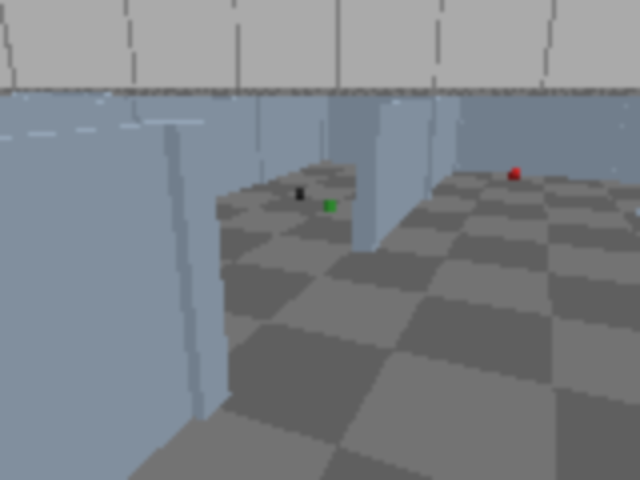puck: (505, 167, 525, 182)
